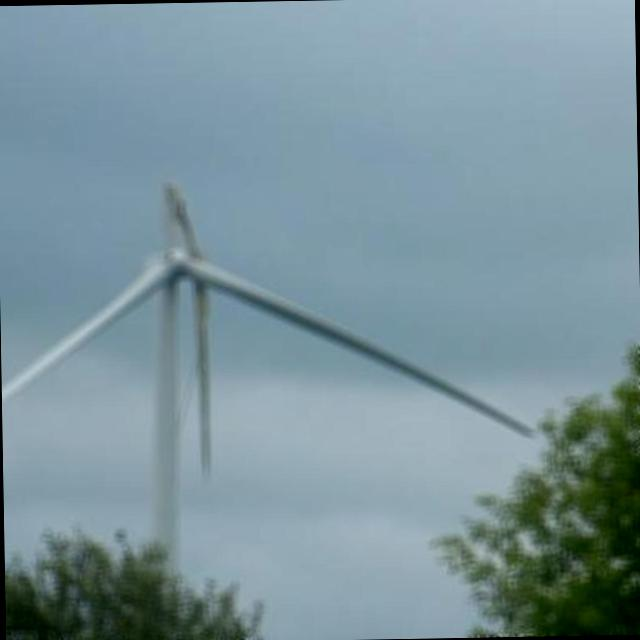crack: (152, 172, 220, 475)
